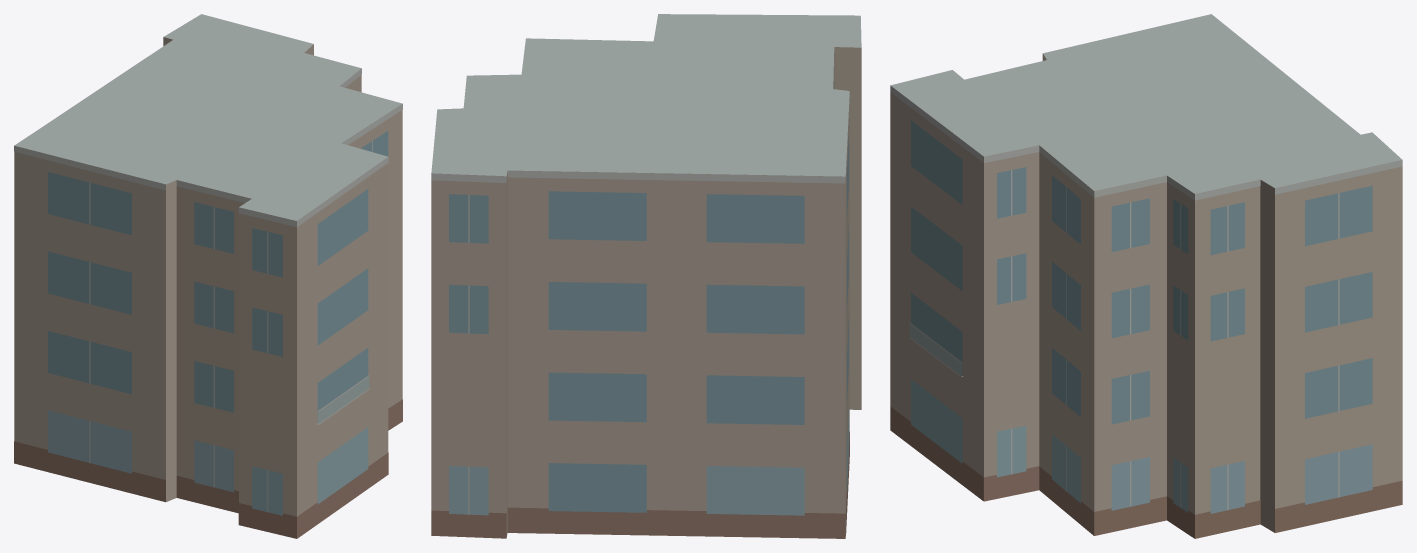
File: survey-upis-32772697.glb
3 renders of one model, left to right at view 1: azimuth 30°, elevation 25°; view 2: azimuth 150°, elevation 25°; view 3: azimuth 270°, elevation 25°, orthographic. The views are drawn at different scales.
Visible parts, largest first — view 1: survey-upis-32772697.tmp; view 2: survey-upis-32772697.tmp; view 3: survey-upis-32772697.tmp.
Part boxes in pixels (x1=…): survey-upis-32772697.tmp: x1=14, y1=14, x2=402, y2=538; survey-upis-32772697.tmp: x1=431, y1=14, x2=861, y2=538; survey-upis-32772697.tmp: x1=890, y1=14, x2=1402, y2=538.
Bounding box in the file's own units: 14.34 × 12.8 × 17.24.
